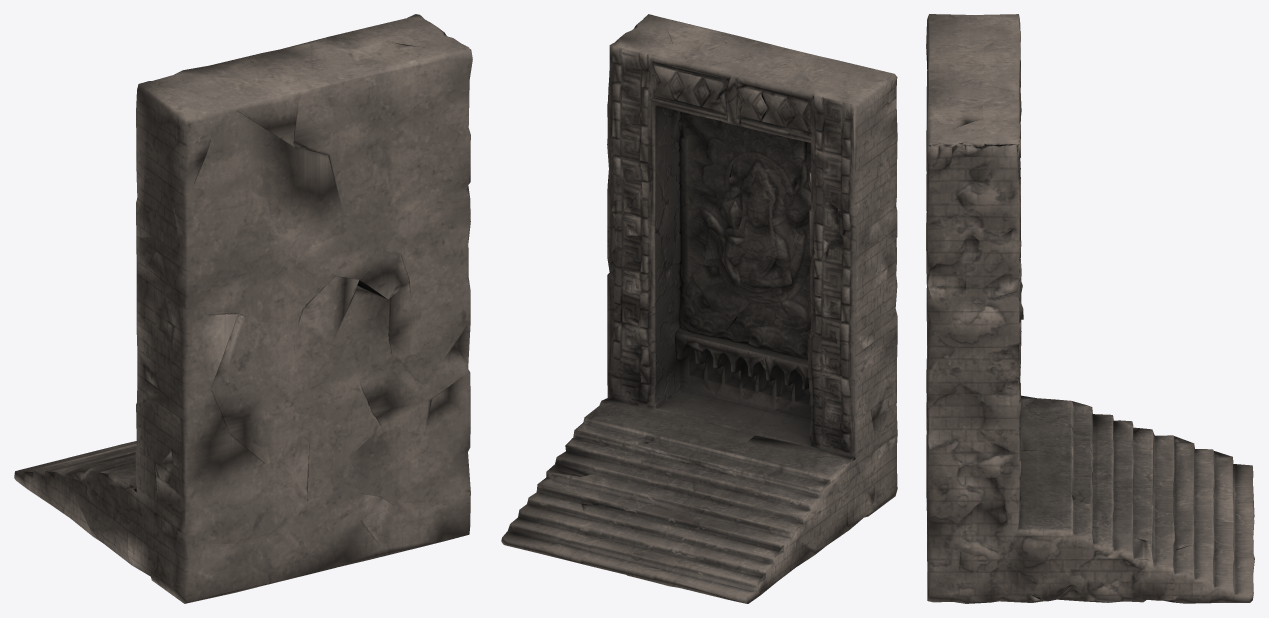
The model's file is ancient_gate.glb.
3 renders of one model, left to right at view 1: azimuth 30°, elevation 25°; view 2: azimuth 150°, elevation 25°; view 3: azimuth 270°, elevation 25°, orthographic. The views are drawn at different scales.
Visible parts, largest first — view 1: Object_2; view 2: Object_2; view 3: Object_2.
Part boxes in pixels (x1,y1,x2,y2): Object_2: (14,14,472,603); Object_2: (501,14,897,603); Object_2: (926,14,1254,603).
Size of the model in its own units: 30.43 by 49.06 by 31.71.
1 material, 1 textured.
